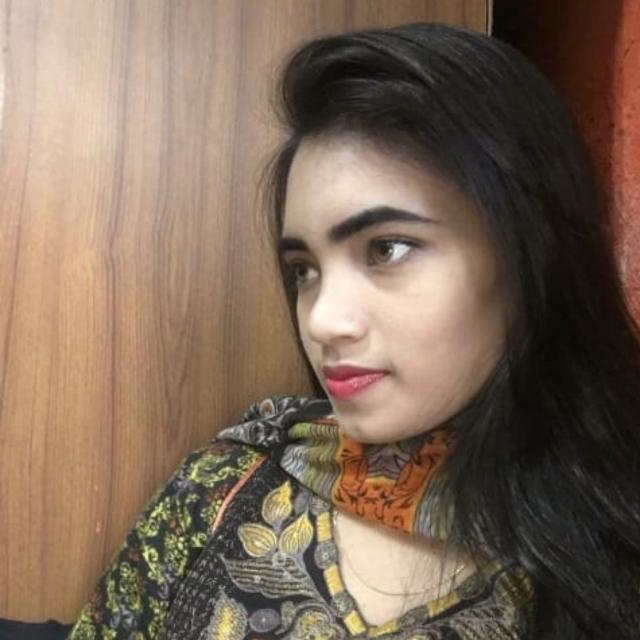Happy: (259, 118, 518, 455)
